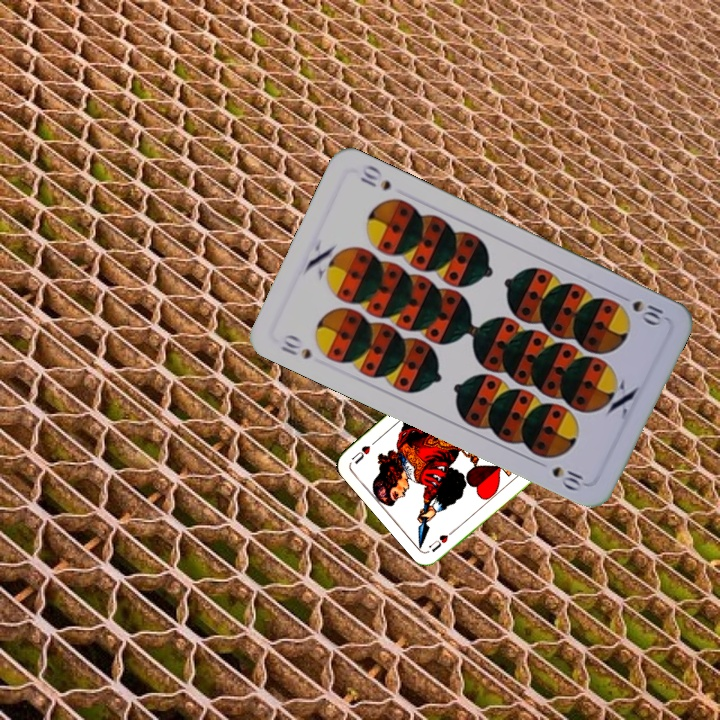HU: (424, 523, 460, 555)
S10: (614, 290, 666, 328), (276, 330, 314, 362)
